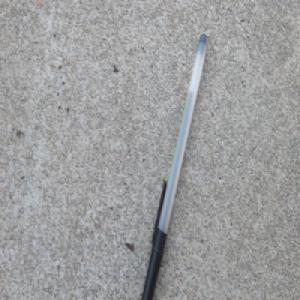Pen: (140, 30, 210, 300)
